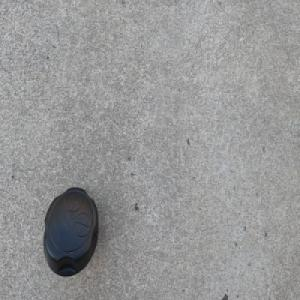FuelCap: (42, 184, 100, 278)
